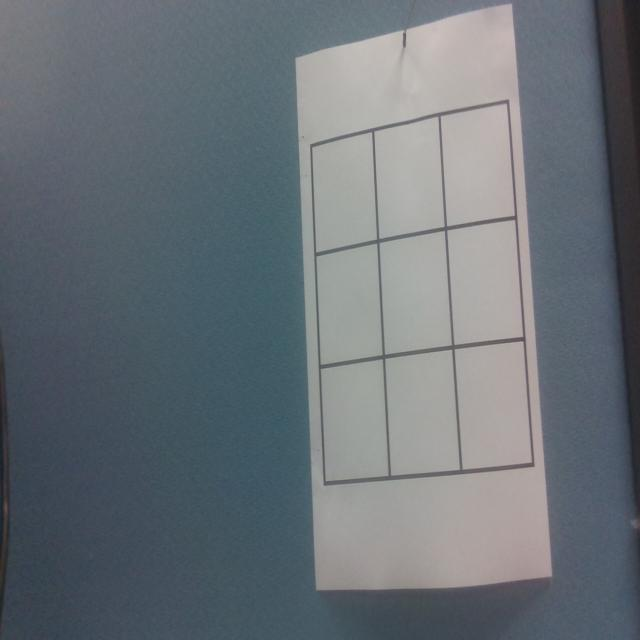null: (453, 337, 533, 474), (448, 218, 525, 351), (388, 348, 460, 479), (443, 101, 516, 228), (381, 230, 453, 357), (320, 357, 387, 484), (376, 117, 445, 239), (318, 240, 383, 367), (314, 132, 377, 254)
table: (306, 97, 543, 490)
